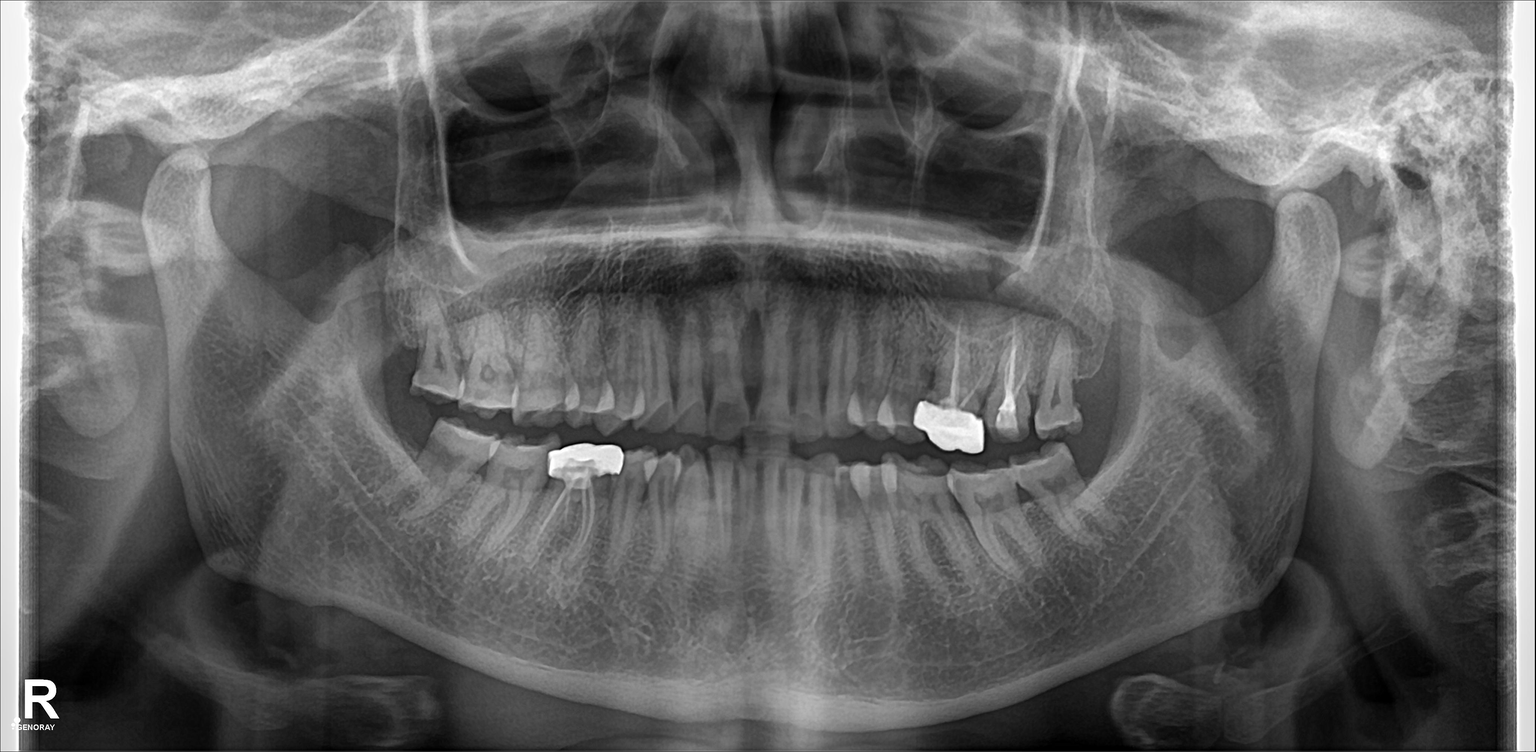Dental Caries: (499, 348, 524, 390)
Endodontically Treated Tooth: (549, 454, 606, 573), (935, 329, 980, 459), (993, 324, 1037, 451)
Missing Tooth: (1080, 432, 1131, 562), (365, 290, 410, 384), (388, 406, 428, 508), (1073, 311, 1108, 423)
